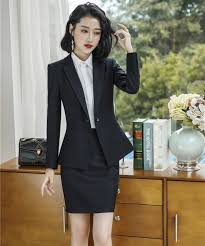F_W_suit jacket: (40, 45, 144, 167)
F_tailored skirt: (55, 126, 124, 220)
